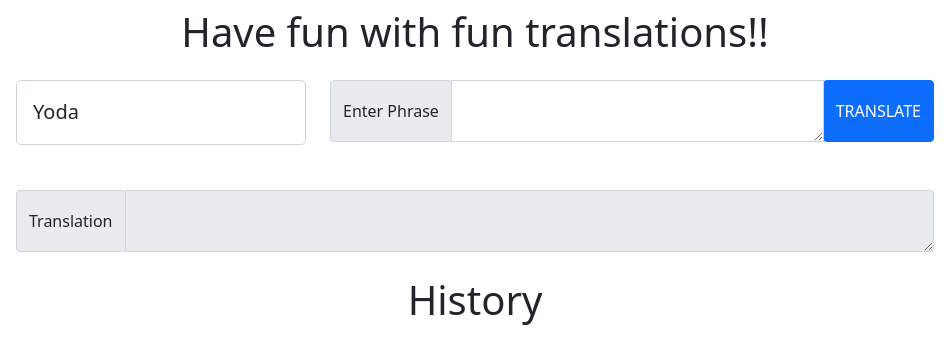
Test case: Checking empty input phrase › Should not be empty
Type "Hello! How has your day been!?" into the text box named "inputPhrase" next to "Enter Phrase" at (638, 111), box [451,80,824,142]
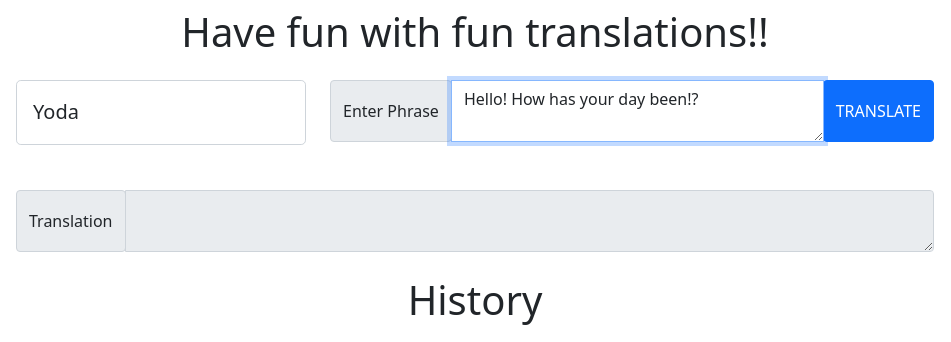
Clear the text box named "inputPhrase" next to "Enter Phrase" at (638, 111), box [451,80,824,142]
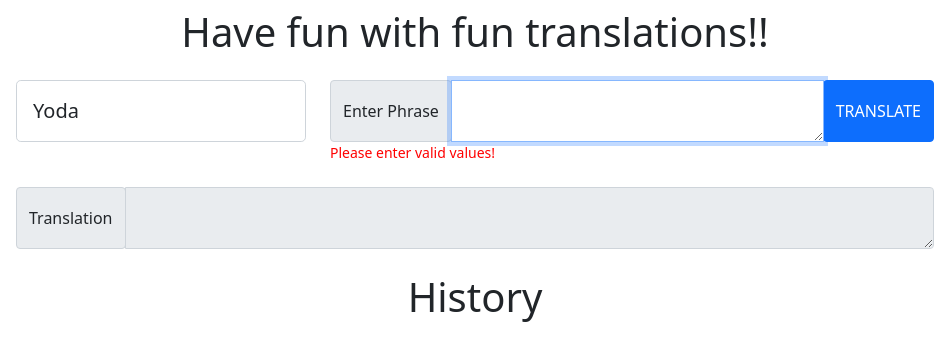
Now the text "Please enter valid values!" is shown, box [330,143,495,162]
